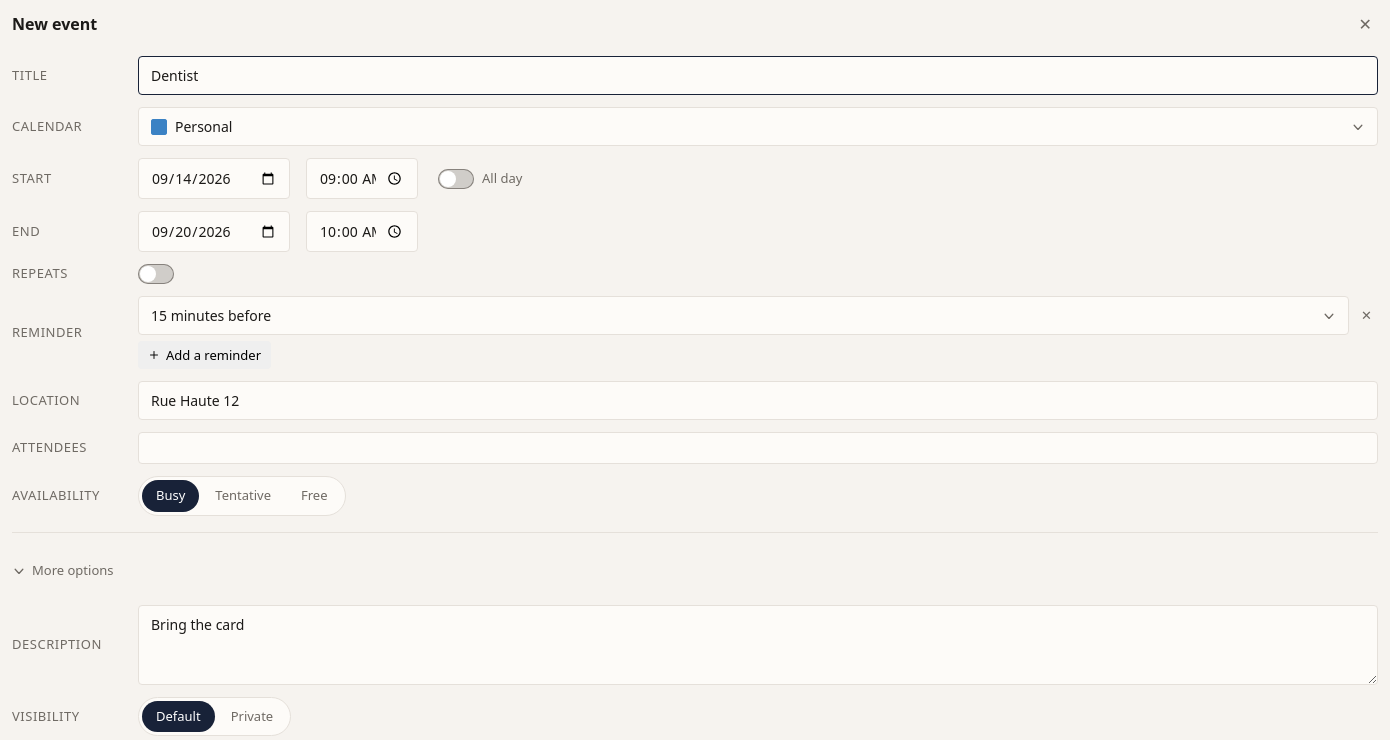
Scenario: EventEditor › puts the end date to sleep on the start date once the event repeats
The image size is (1390, 740).
expect the date field named "End date" is enabled: met, box x1=138 y1=211 x2=290 y2=252
Click the checkbox labelled "Repeats". click: coordinates (40, 273)
box: x1=12 y1=264 x2=68 y2=282
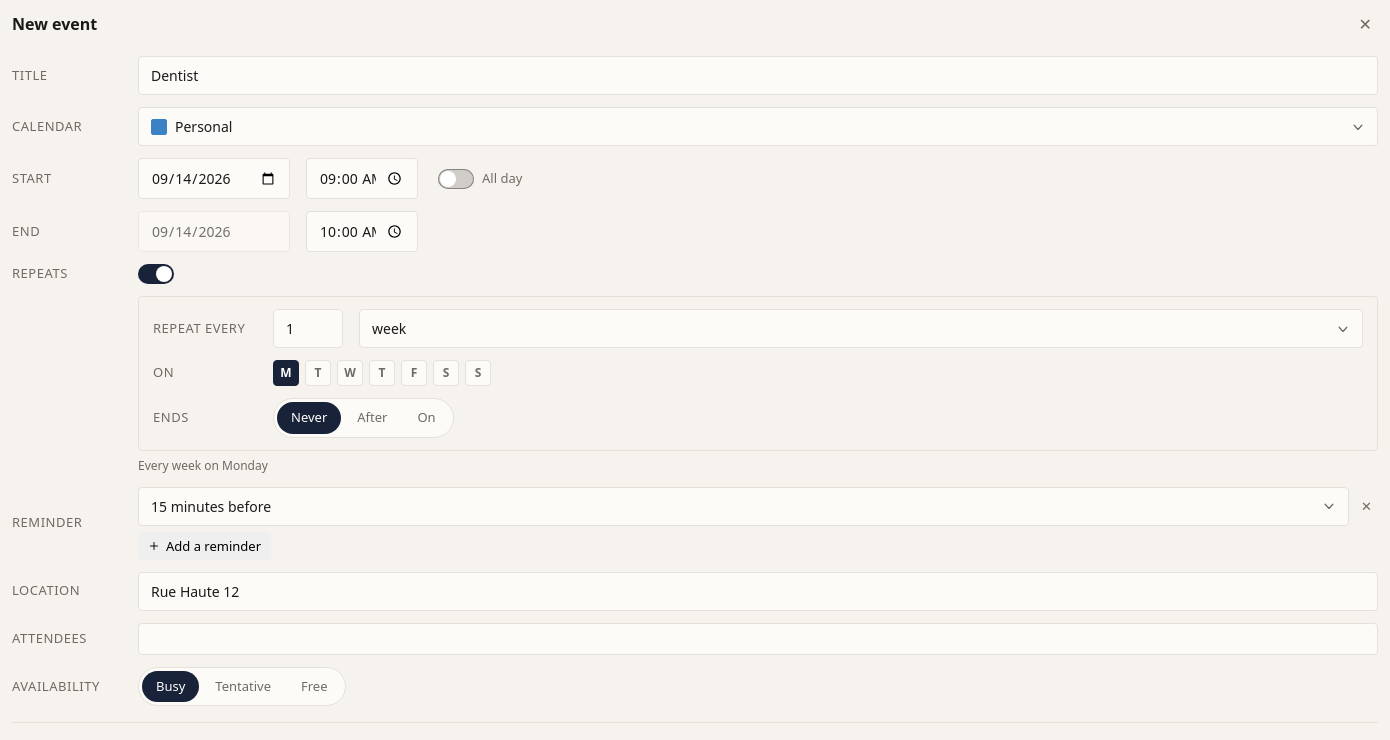
expect the date field named "End date" is disabled: met, box x1=138 y1=211 x2=290 y2=252
expect the date field named "End date" holds "2026-09-14": met, box x1=138 y1=211 x2=290 y2=252
